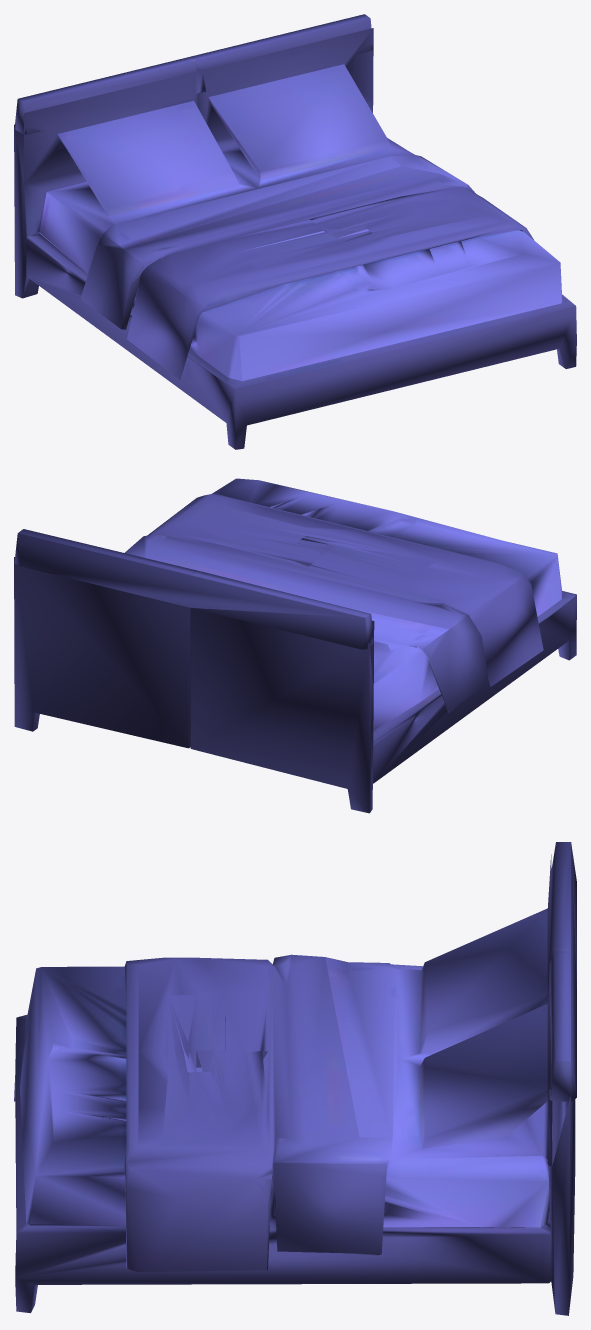
The model's file is model.progressive.glb.
The picture shows the model from 3 angles, top to bottom: view 1: azimuth 30°, elevation 25°; view 2: azimuth 150°, elevation 25°; view 3: azimuth 270°, elevation 25°; orthographic projection. The views are drawn at different scales.
Visible parts, largest first — view 1: texture_pbr_20250901; view 2: texture_pbr_20250901; view 3: texture_pbr_20250901.
Boxes of the visible parts, left/top/right/bottom form: texture_pbr_20250901: left=14, top=14, right=576, bottom=449; texture_pbr_20250901: left=14, top=478, right=576, bottom=813; texture_pbr_20250901: left=14, top=842, right=576, bottom=1315.
Size of the model in its own units: 1.85 by 0.9348 by 1.89.
Materials: 1 (1 with a texture image).
